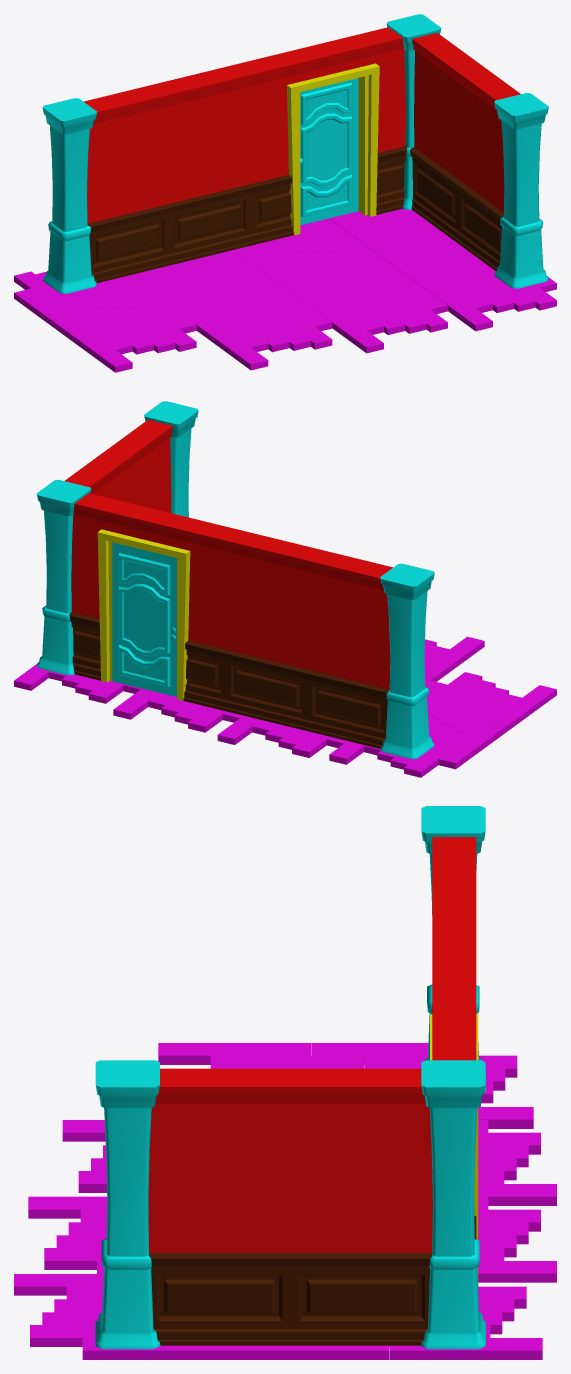
3 renders of one model, top to bottom at view 1: azimuth 30°, elevation 25°; view 2: azimuth 150°, elevation 25°; view 3: azimuth 270°, elevation 25°, orthographic. The views are drawn at different scales.
Visible parts, largest first — view 1: Wall_Top_low (×3), Wall_Bottom_low (×3), Floorboards_G1_Low_FBoard_6A_low3 (×3), Floorboards_G1_Low_FBoard_6A_low2 (×3), Floorboards_G1_Low_FBoard_6A_low (×3), Floorboards_G1_Low_FBoard_6A_low1 (×2), Door_low, Wall_Edge_low, Wall_Edge_low2, Door_Frame_low, Wall_Edge_low1; view 2: Wall_Top_low (×3), Wall_Bottom_low (×2), Door_low, Floorboards_G1_Low_FBoard_6A_low1 (×2), Wall_Edge_low, Wall_Edge_low1, Door_Frame_low, Floorboards_G1_Low_FBoard_6A_low2 (×2), Wall_Edge_low2, Floorboards_G1_Low_FBoard_6A_low3, Floorboards_G1_Low_FBoard_6A_low; view 3: Wall_Top_low (×3), Wall_Bottom_low, Wall_Edge_low2, Wall_Edge_low1, Floorboards_G1_Low_FBoard_6A_low (×3), Floorboards_G1_Low_FBoard_6A_low1 (×2), Floorboards_G1_Low_FBoard_6A_low3 (×2), Floorboards_G1_Low_FBoard_6A_low2 (×2), Wall_Edge_low, Door_Frame_low.
Part boxes in pixels (x1,y1,x2,y2): Wall_Top_low (×3): (84,27,520,223); Wall_Bottom_low (×3): (87,146,503,283); Floorboards_G1_Low_FBoard_6A_low3 (×3): (234,218,447,353); Floorboards_G1_Low_FBoard_6A_low2 (×3): (129,250,332,370); Floorboards_G1_Low_FBoard_6A_low (×3): (329,208,556,331); Floorboards_G1_Low_FBoard_6A_low1 (×2): (14,271,196,372); Door_low: (300,78,358,225); Wall_Edge_low: (42,98,97,293); Wall_Edge_low2: (494,93,548,288); Door_Frame_low: (287,63,379,235); Wall_Edge_low1: (386,14,441,209); Wall_Top_low (×3): (65,419,392,689); Wall_Bottom_low (×2): (69,612,389,748); Door_low: (112,542,176,696); Floorboards_G1_Low_FBoard_6A_low1 (×2): (329,672,556,777); Wall_Edge_low: (380,563,434,759); Wall_Edge_low1: (36,479,91,675); Door_Frame_low: (97,529,190,700); Floorboards_G1_Low_FBoard_6A_low2 (×2): (217,636,484,757); Wall_Edge_low2: (144,401,198,517); Floorboards_G1_Low_FBoard_6A_low3: (113,688,243,732); Floorboards_G1_Low_FBoard_6A_low: (14,664,141,703); Wall_Top_low (×3): (148,837,476,1252); Wall_Bottom_low: (148,1253,432,1345); Wall_Edge_low2: (95,1060,160,1349); Wall_Edge_low1: (421,1060,485,1349); Floorboards_G1_Low_FBoard_6A_low (×3): (14,1274,542,1359); Floorboards_G1_Low_FBoard_6A_low1 (×2): (158,1043,533,1128); Floorboards_G1_Low_FBoard_6A_low3 (×2): (28,1196,556,1282); Floorboards_G1_Low_FBoard_6A_low2 (×2): (62,1120,556,1205); Wall_Edge_low: (421,806,485,1092); Door_Frame_low: (430,1014,478,1286).
Bounding box in the file's own units: 615 × 253 × 459.
